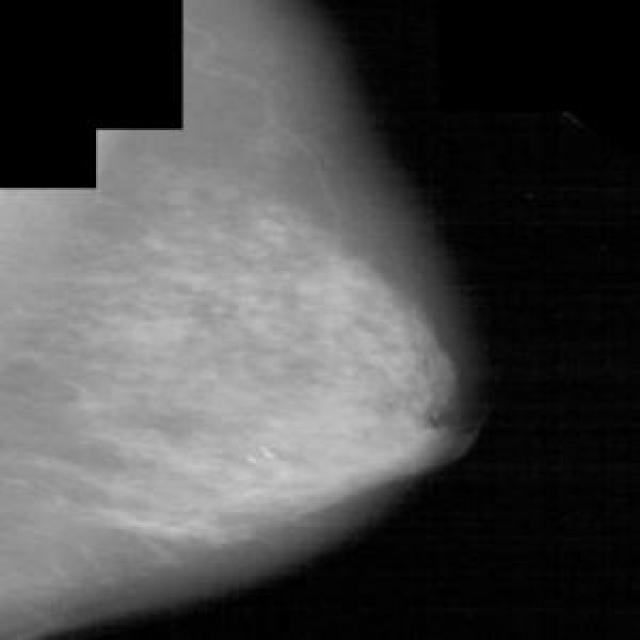tumor: (282, 238, 452, 488), (107, 413, 260, 552)
